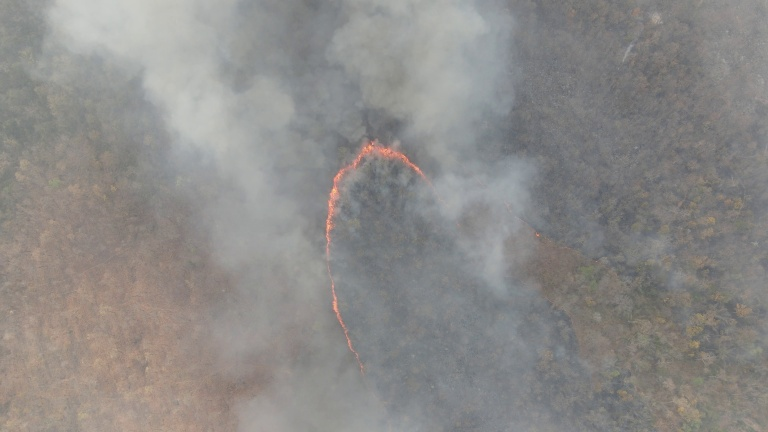fire: (322, 136, 447, 393), (531, 227, 551, 244)
smoke: (72, 5, 342, 414), (348, 2, 539, 302)
